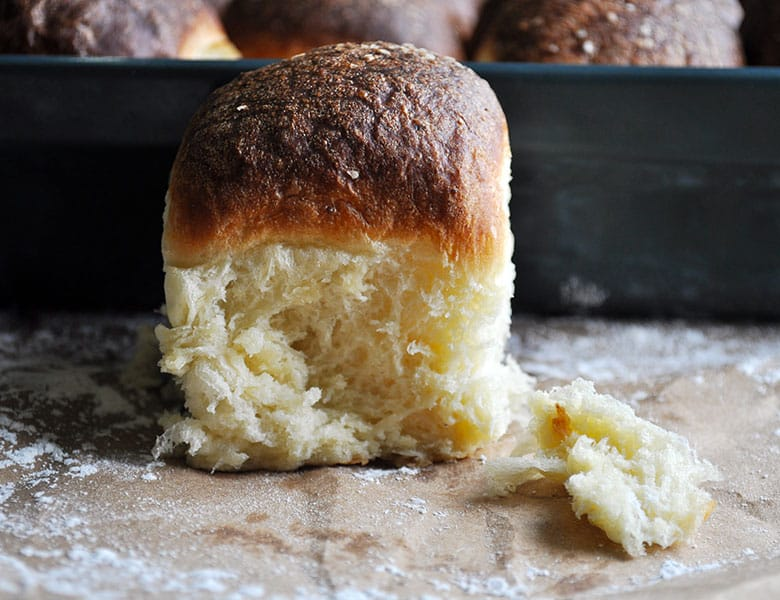hamburger_buns: (160, 51, 550, 474)
